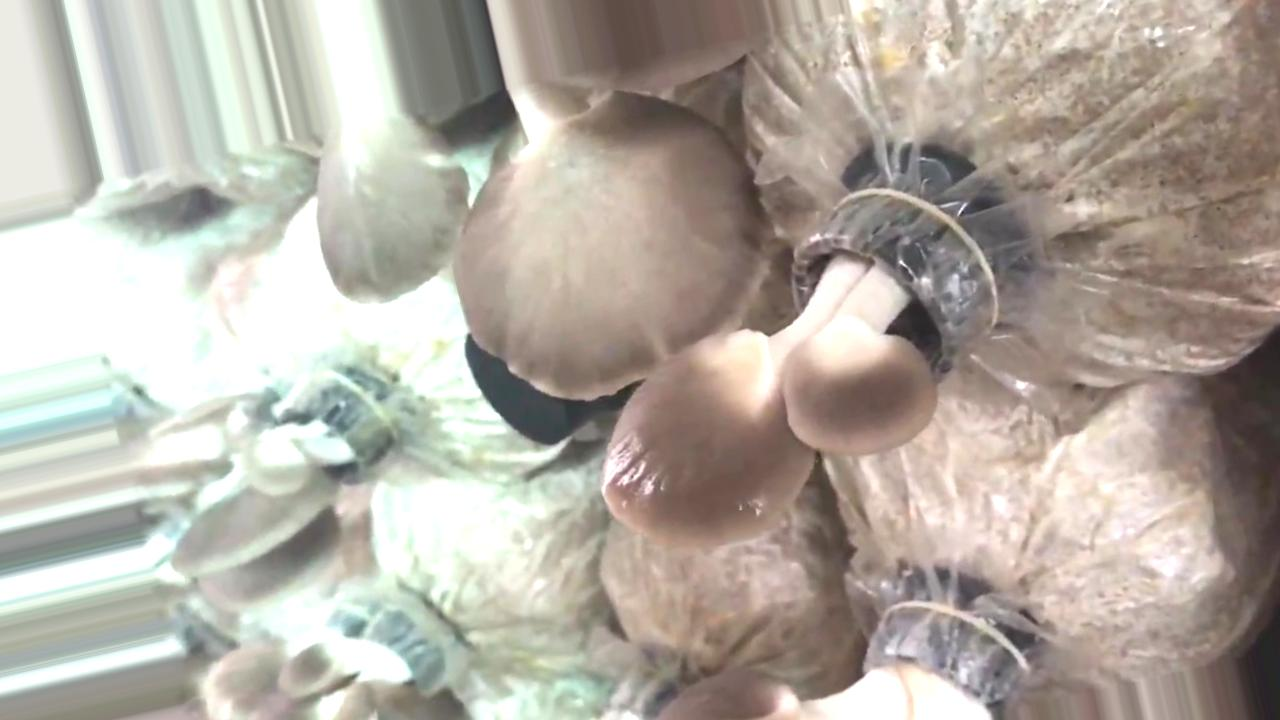nam: (323, 1, 770, 405), (605, 153, 1023, 546), (153, 366, 384, 612), (664, 603, 1046, 720), (207, 589, 445, 720)
